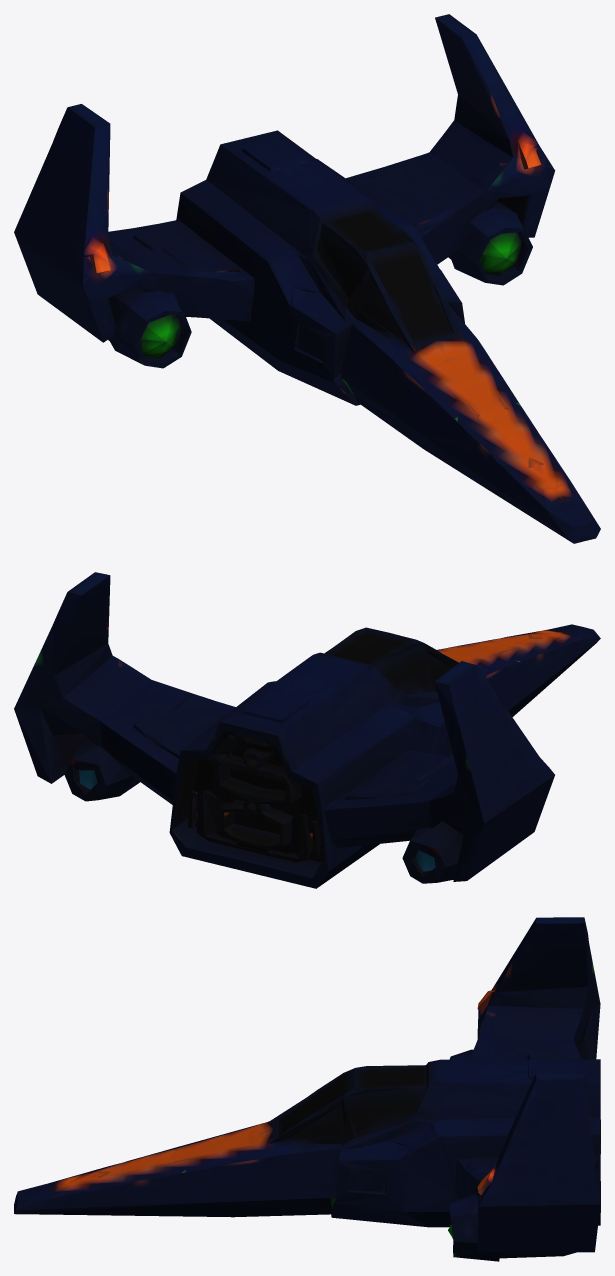
3 renders of one model, top to bottom at view 1: azimuth 30°, elevation 25°; view 2: azimuth 150°, elevation 25°; view 3: azimuth 270°, elevation 25°, orthographic. The views are drawn at different scales.
Parts seen in each view (by area): view 1: world; view 2: world; view 3: world.
Part boxes in pixels (<box>): world: <box>14,14,600,543</box>; world: <box>14,572,600,888</box>; world: <box>14,917,600,1261</box>.
Size of the model in its own units: 0.8137 by 0.3975 by 1.
7 materials, 1 textured.
